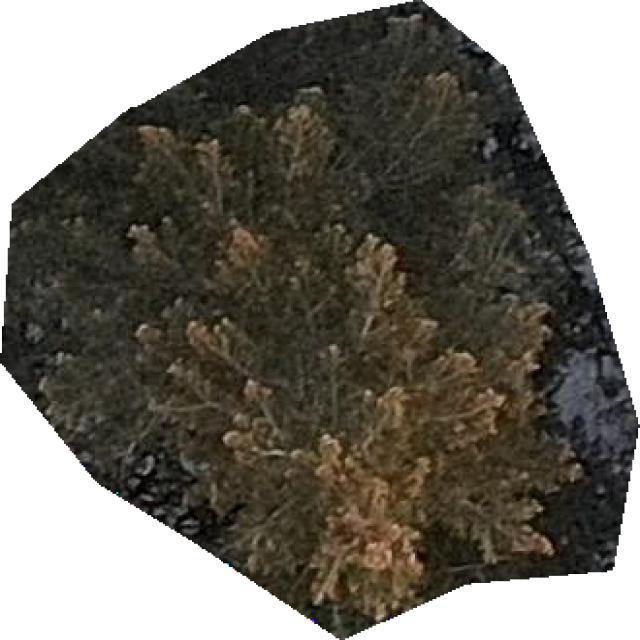spruce: (0, 1, 636, 639)
